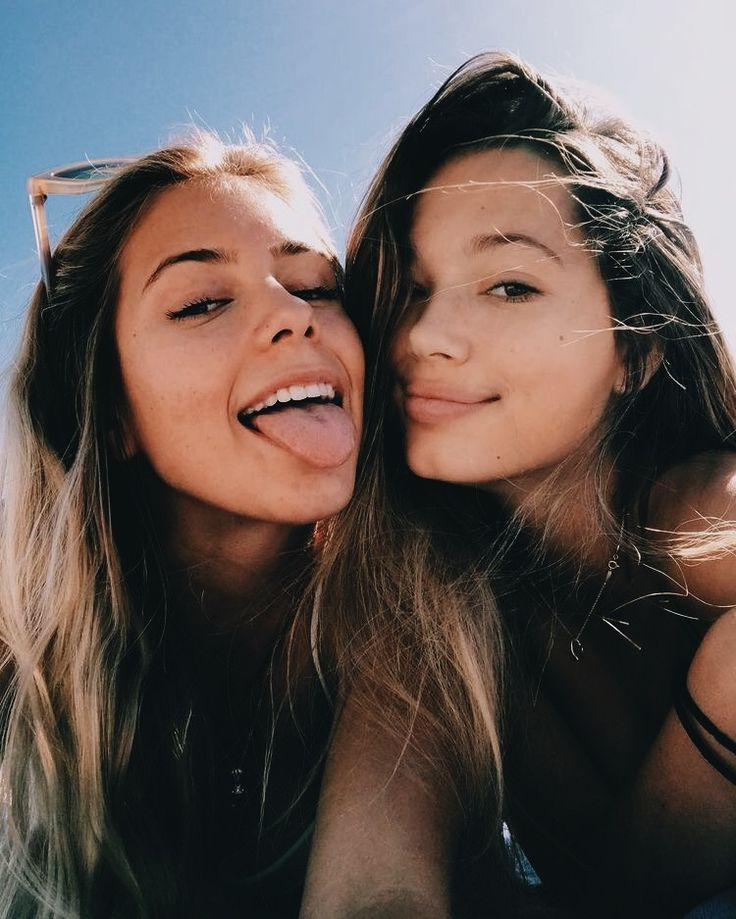bare: (119, 299, 368, 517), (389, 306, 613, 488)
